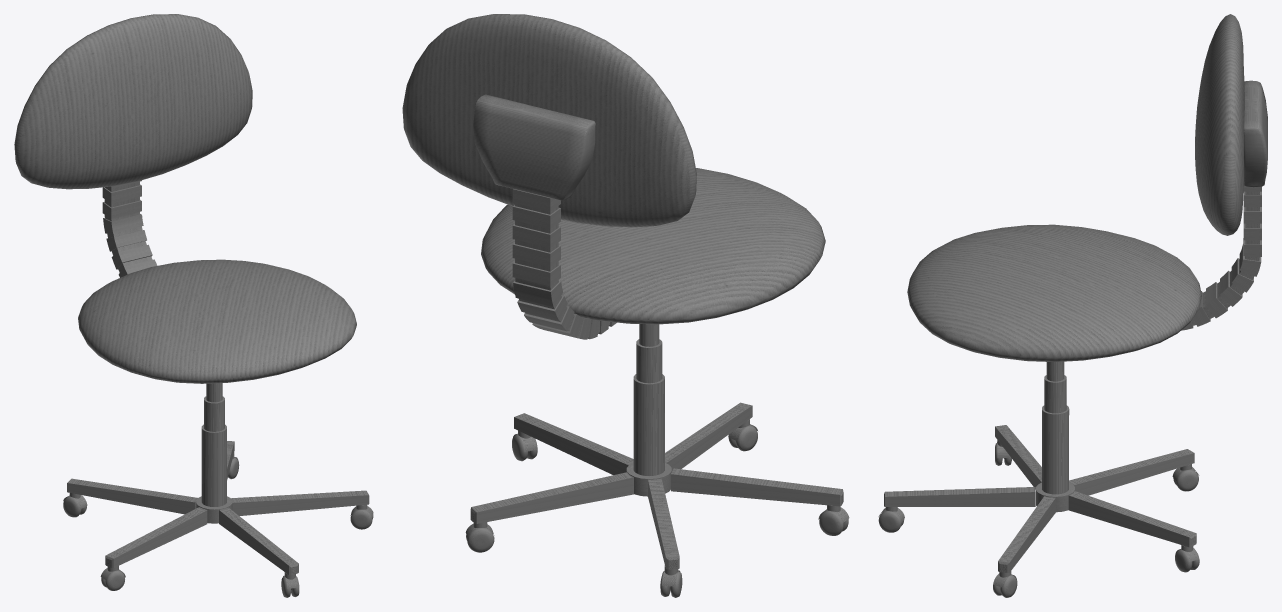
The model's file is IKEA-Sevnning_Desk_Chair-3D.DAE.
The picture shows the model from 3 angles, left to right: view 1: azimuth 30°, elevation 25°; view 2: azimuth 150°, elevation 25°; view 3: azimuth 270°, elevation 25°; orthographic projection. The views are drawn at different scales.
Parts seen in each view (by area): view 1: Cylinder03-Pivot; view 2: Cylinder03-Pivot; view 3: Cylinder03-Pivot.
Part boxes in pixels (box(x1,y1,x2,y2)): Cylinder03-Pivot: box(14, 14, 373, 597); Cylinder03-Pivot: box(402, 14, 849, 597); Cylinder03-Pivot: box(878, 14, 1267, 597).
Bounding box in the file's own units: 552 × 904 × 640.
